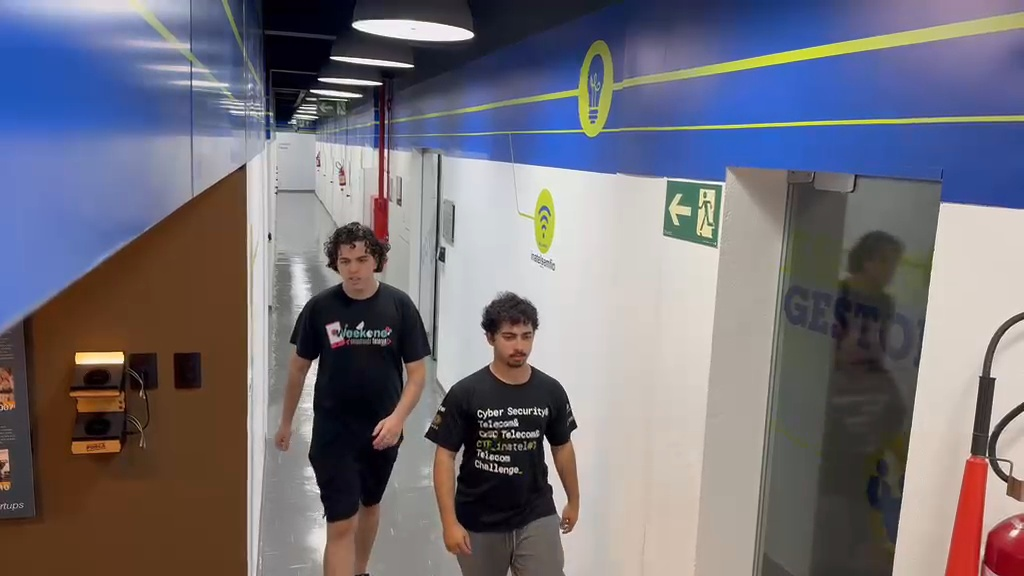person: (274, 222, 433, 573), (424, 291, 582, 574)
